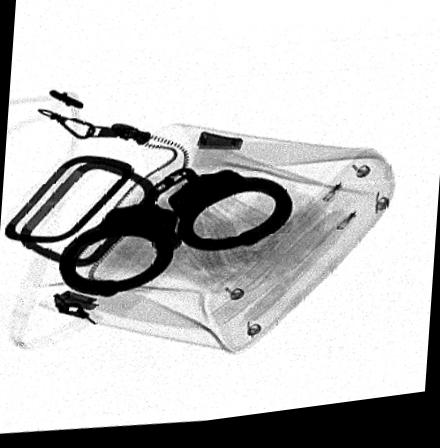HandCuffs: (58, 172, 292, 299)
